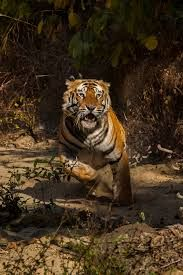Tigrew: (44, 64, 153, 228)
